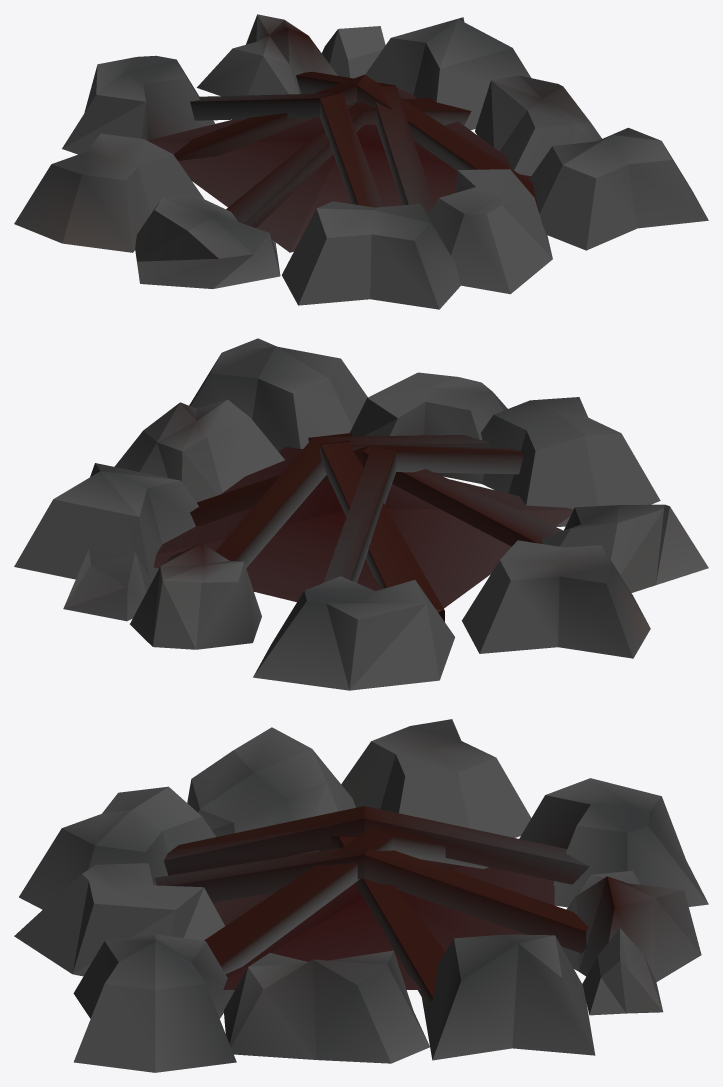
Rendered from FogueiraB.fbx.
3 renders of one model, top to bottom at view 1: azimuth 30°, elevation 25°; view 2: azimuth 150°, elevation 25°; view 3: azimuth 270°, elevation 25°, orthographic. The views are drawn at different scales.
Visible parts, largest first — view 1: LOD_0; view 2: LOD_0; view 3: LOD_0.
Boxes of the visible parts, x1,y1,x2,y2 form: LOD_0: (14,14,708,309); LOD_0: (14,338,708,690); LOD_0: (14,719,708,1072).
Size of what is drawn, in the model's own units: 188 by 33.67 by 180.
